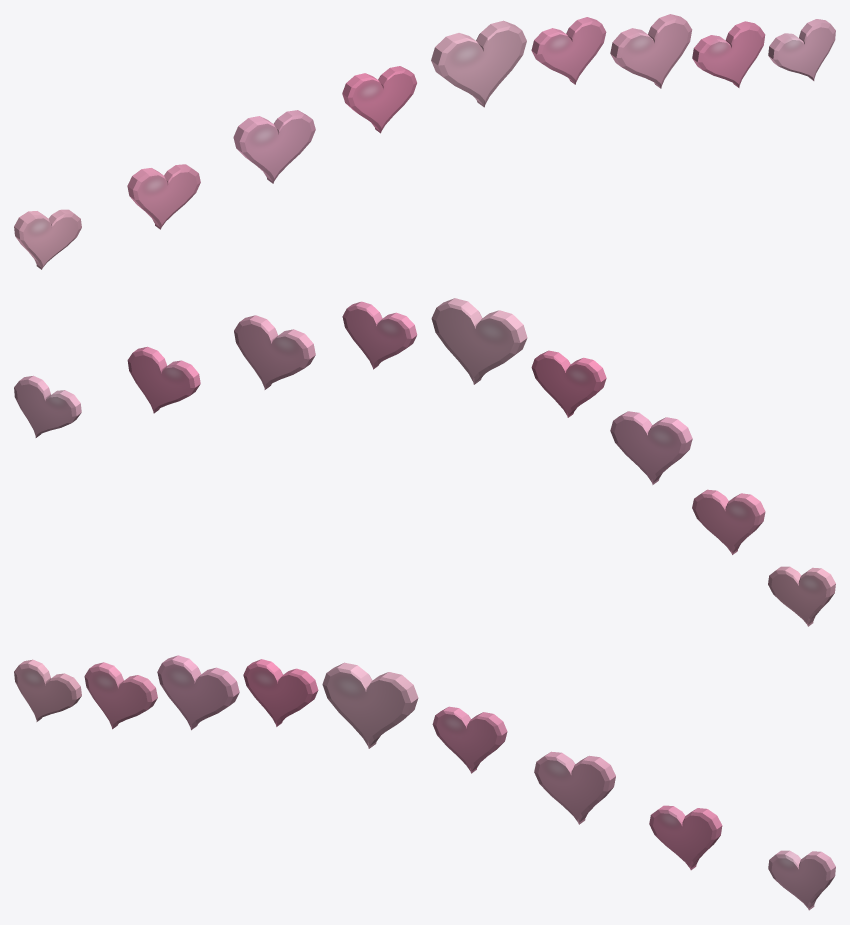
The model's file is heart_mood_crown_lod_c.glb.
The picture shows the model from 3 angles, top to bottom: view 1: azimuth 30°, elevation 25°; view 2: azimuth 150°, elevation 25°; view 3: azimuth 330°, elevation 25°; orthographic projection.
Visible parts, largest first — view 1: HeartMood_Crown_Pivot; view 2: HeartMood_Crown_Pivot; view 3: HeartMood_Crown_Pivot.
Boxes of the visible parts, x1,y1,x2,y2 form: HeartMood_Crown_Pivot: (14, 14, 835, 269); HeartMood_Crown_Pivot: (14, 298, 835, 626); HeartMood_Crown_Pivot: (14, 655, 835, 910).
Bounding box in the file's own units: 0.9273 × 0.1992 × 0.1215.
Materials: 1 (1 with a texture image).
